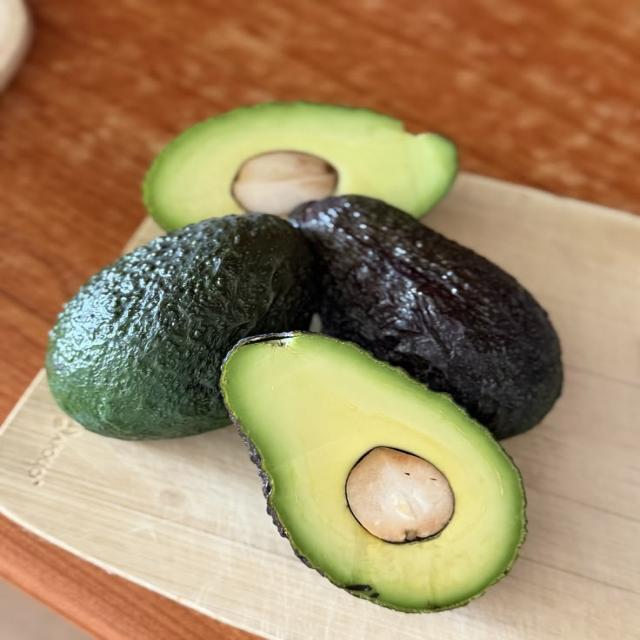avocado: (221, 333, 526, 611), (291, 196, 562, 438), (47, 214, 314, 439), (144, 102, 457, 230)
